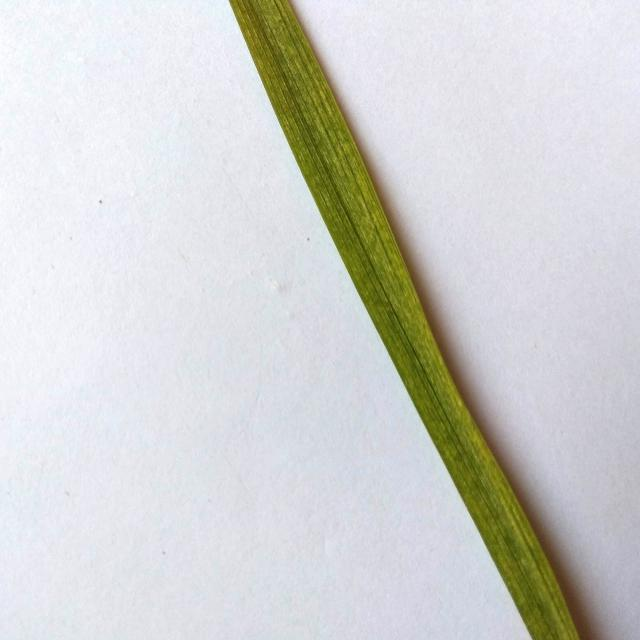Rice_Healthy: (230, 0, 579, 640)
